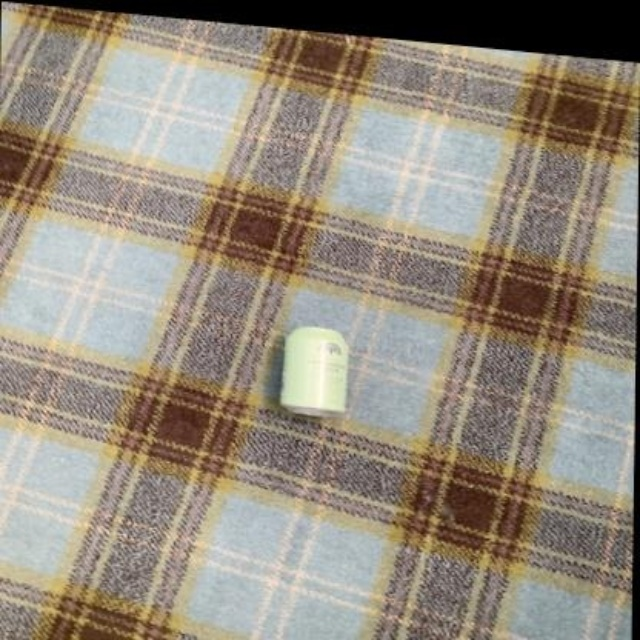trash: (280, 326, 346, 415)
